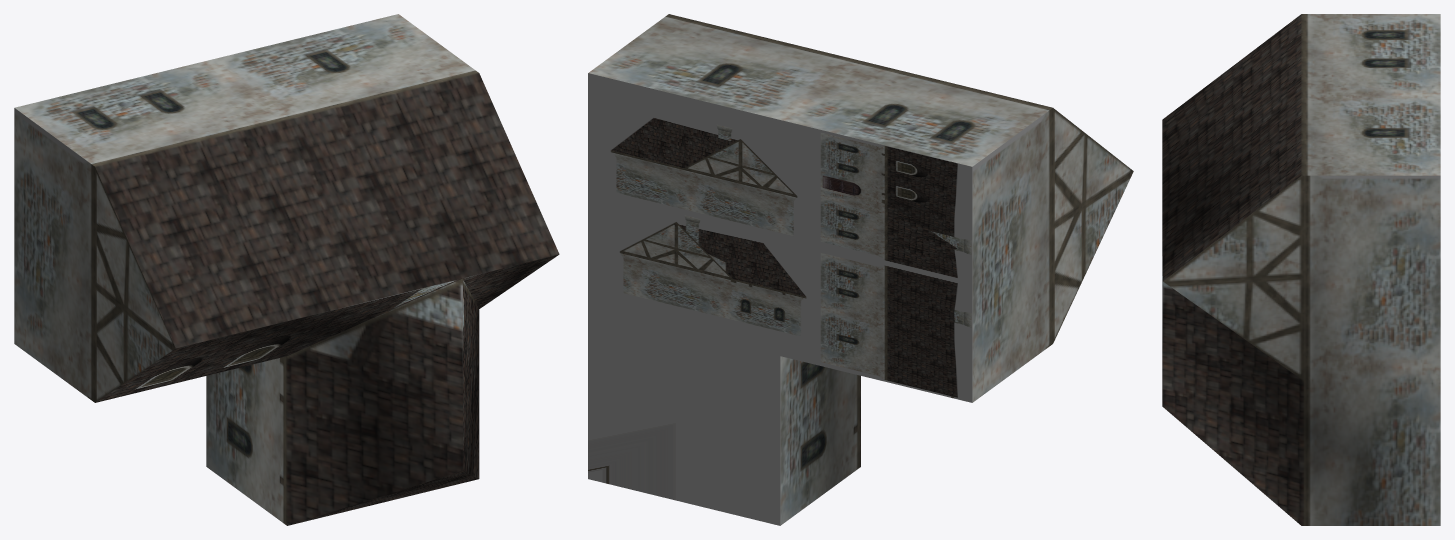
The model's file is fachwerkhaus1_LOD.fbx.
3 renders of one model, left to right at view 1: azimuth 30°, elevation 25°; view 2: azimuth 150°, elevation 25°; view 3: azimuth 270°, elevation 25°, orthographic. The views are drawn at different scales.
Visible parts, largest first — view 1: object; view 2: object; view 3: object.
Boxes of the visible parts, x1=… form: object: x1=14, y1=14, x2=559, y2=525; object: x1=588, y1=14, x2=1133, y2=525; object: x1=1162, y1=14, x2=1440, y2=525.
Bounding box in the file's own units: 325 × 328 × 237.
